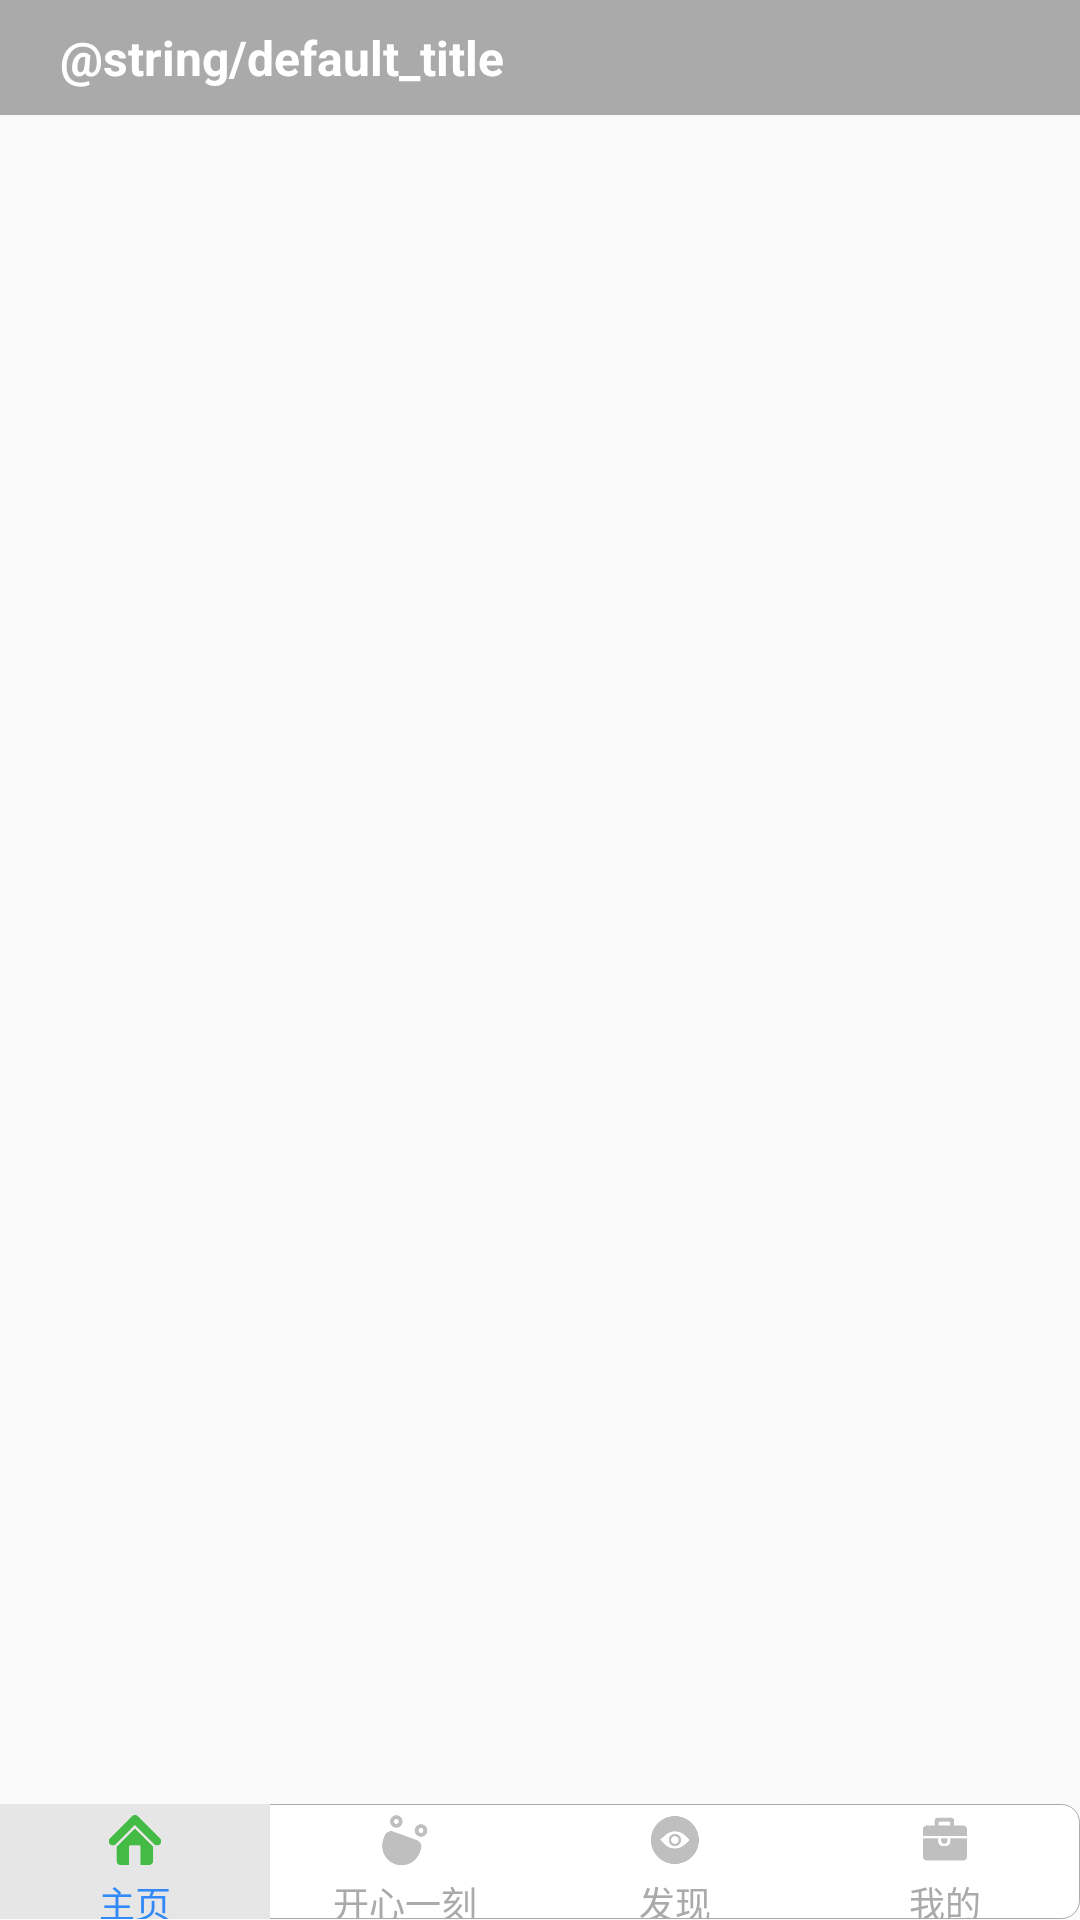

Icons on this 1080 × 1920 Android screen, each with the point to tap as (x=x, y=y):
joke unselect: (x=404, y=1840)
tool unselect: (x=945, y=1839)
